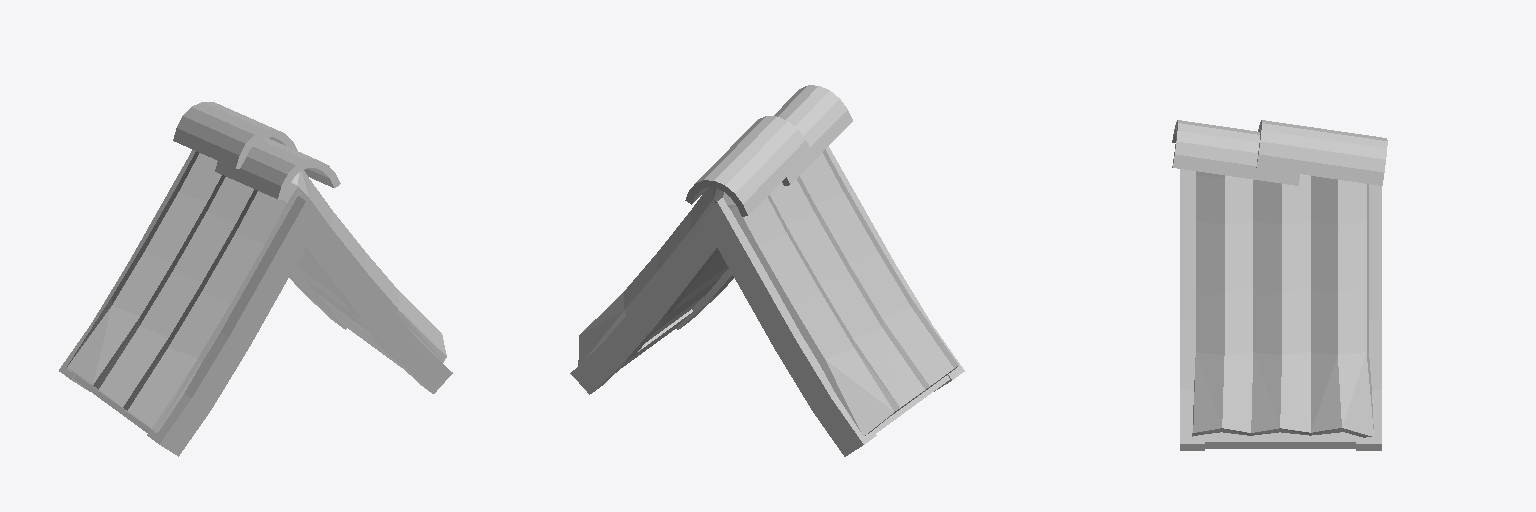
The model's file is Roof_RoundTile_2x1.obj.
The picture shows the model from 3 angles: view 1: azimuth 30°, elevation 25°; view 2: azimuth 150°, elevation 25°; view 3: azimuth 270°, elevation 25°; orthographic projection.
Visible parts, largest first — view 1: Roof_RoundTile_2x1; view 2: Roof_RoundTile_2x1; view 3: Roof_RoundTile_2x1.
Boxes of the visible parts, box(x1,y1,x2,y2) form: Roof_RoundTile_2x1: box(59, 102, 452, 456); Roof_RoundTile_2x1: box(570, 85, 964, 456); Roof_RoundTile_2x1: box(1172, 120, 1387, 450).
Bounding box in the file's own units: 3.3 × 2.66 × 1.95.